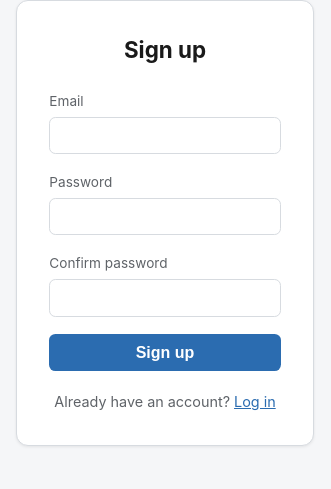
Test: shows the mismatched-confirmation error under the confirmation field
Type "alice@example.com" into the field labelled "Email" at (165, 135), box [49, 117, 281, 154]
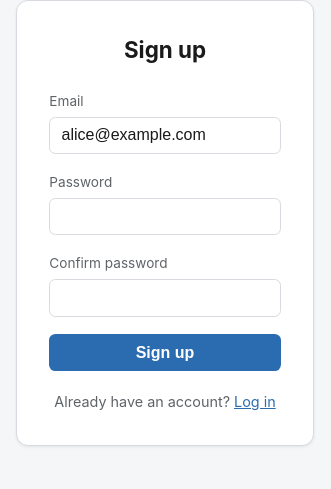
Type "correct horse battery" into the password field labelled "Password" at (165, 217), box [49, 198, 281, 235]
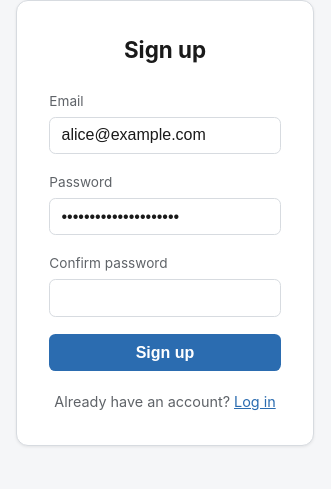
Type "something else" into the password field labelled "Confirm password" at (165, 298), box [49, 279, 281, 316]
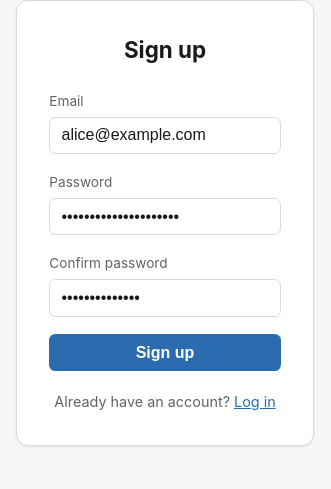
Click the button "Sign up" at (165, 353), box [49, 334, 281, 371]
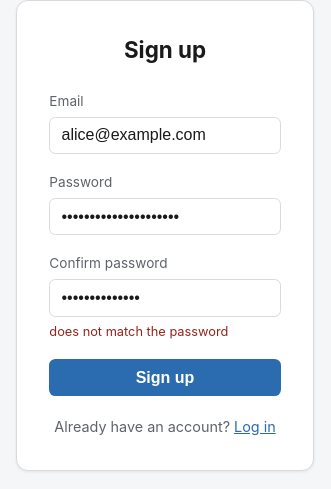
Expected: the text "does not match the password" is shown, [49, 324, 228, 339]
